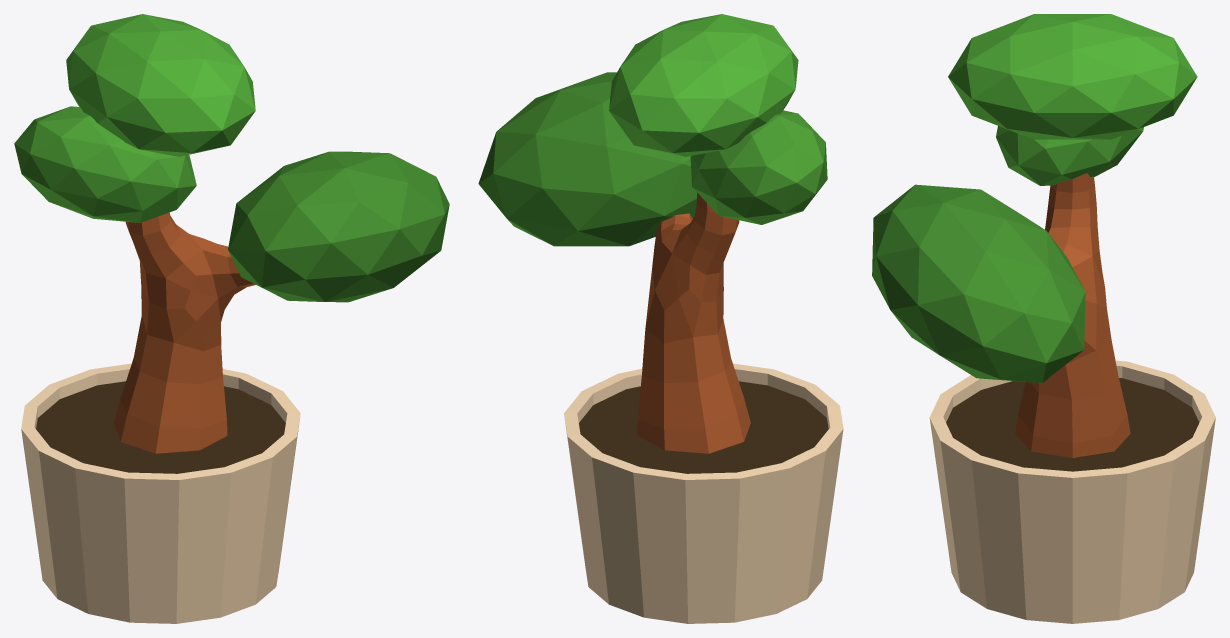
Rendered from Prop_Homeplant_07.fbx.
The picture shows the model from 3 angles, left to right: view 1: azimuth 30°, elevation 25°; view 2: azimuth 150°, elevation 25°; view 3: azimuth 270°, elevation 25°; orthographic projection.
Parts seen in each view (by area): view 1: Prop_Homeplant_07; view 2: Prop_Homeplant_07; view 3: Prop_Homeplant_07.
Part boxes in pixels (<box>): Prop_Homeplant_07: <box>14,14,449,623</box>; Prop_Homeplant_07: <box>478,14,843,623</box>; Prop_Homeplant_07: <box>872,14,1215,623</box>.
Bounding box in the file's own units: 60.59 × 84.85 × 48.01.
